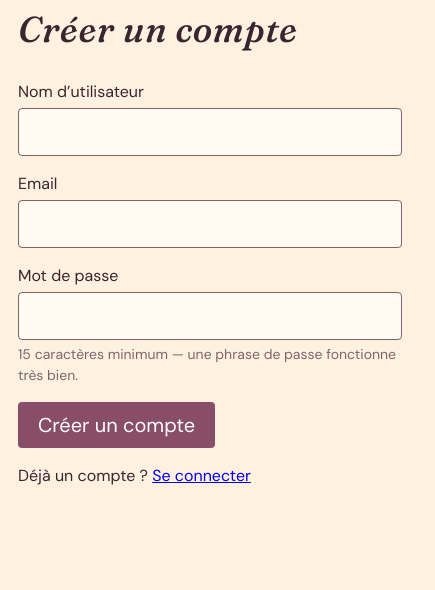
Test: RegisterPage › affiche une erreur si le mot de passe est trop commun (breach-check)
The image size is (435, 590).
Step 1. Type "marcel" into the field labelled "Nom d’utilisateur" → (210, 132), box [18, 108, 402, 156]
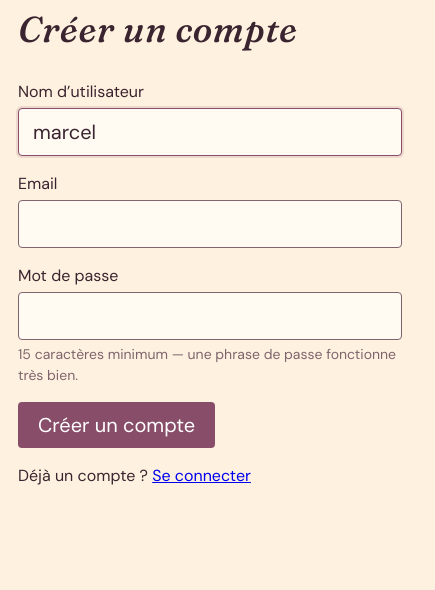
Step 2. Type "marcel@example.com" into the field labelled "Email" → (210, 224), box [18, 200, 402, 248]
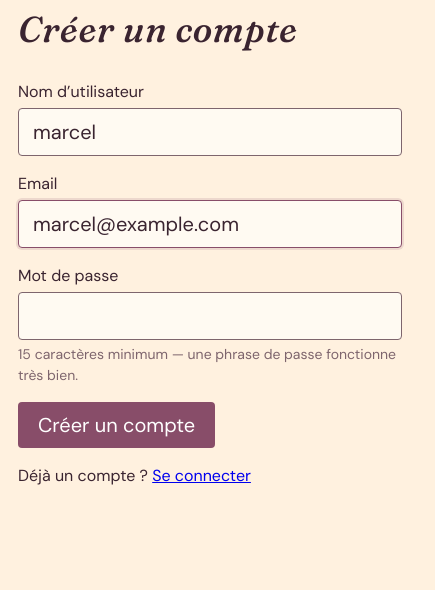
Step 3. Type "hunter2222password" into the password field labelled "Mot de passe" → (210, 316), box [18, 292, 402, 340]
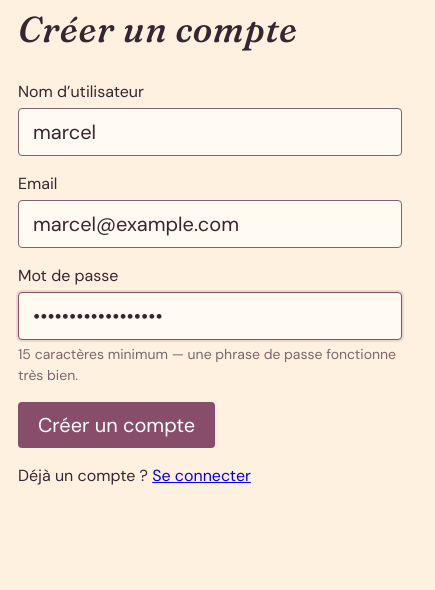
Step 4. Click the button "Créer un compte" → (117, 425), box [18, 402, 215, 448]
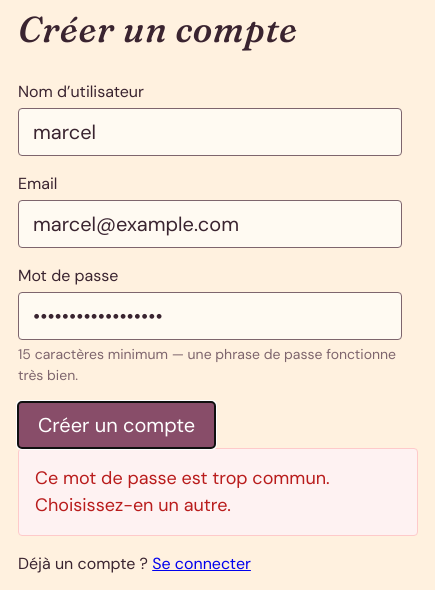
Result: the text "Ce mot de passe est trop commun. Choisissez-en un autre." is shown at [18, 448, 418, 536]
